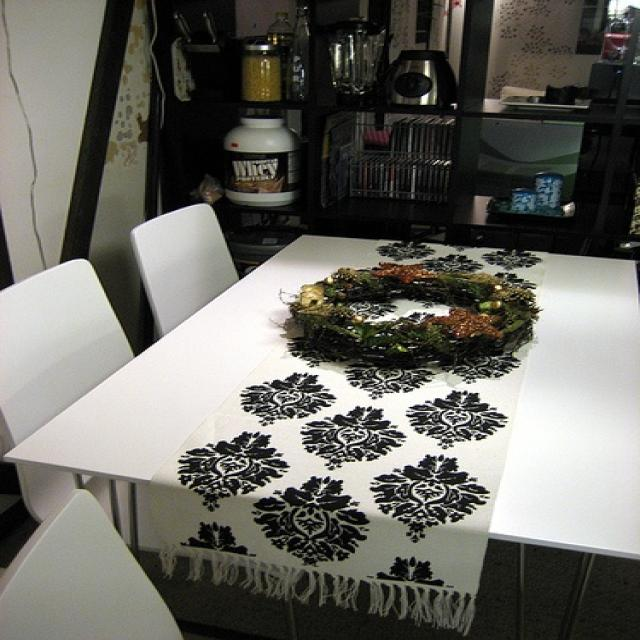bottle: (263, 9, 295, 46)
chair: (0, 488, 188, 638), (0, 254, 135, 451), (133, 200, 244, 339)
diningtable: (9, 234, 638, 639)
